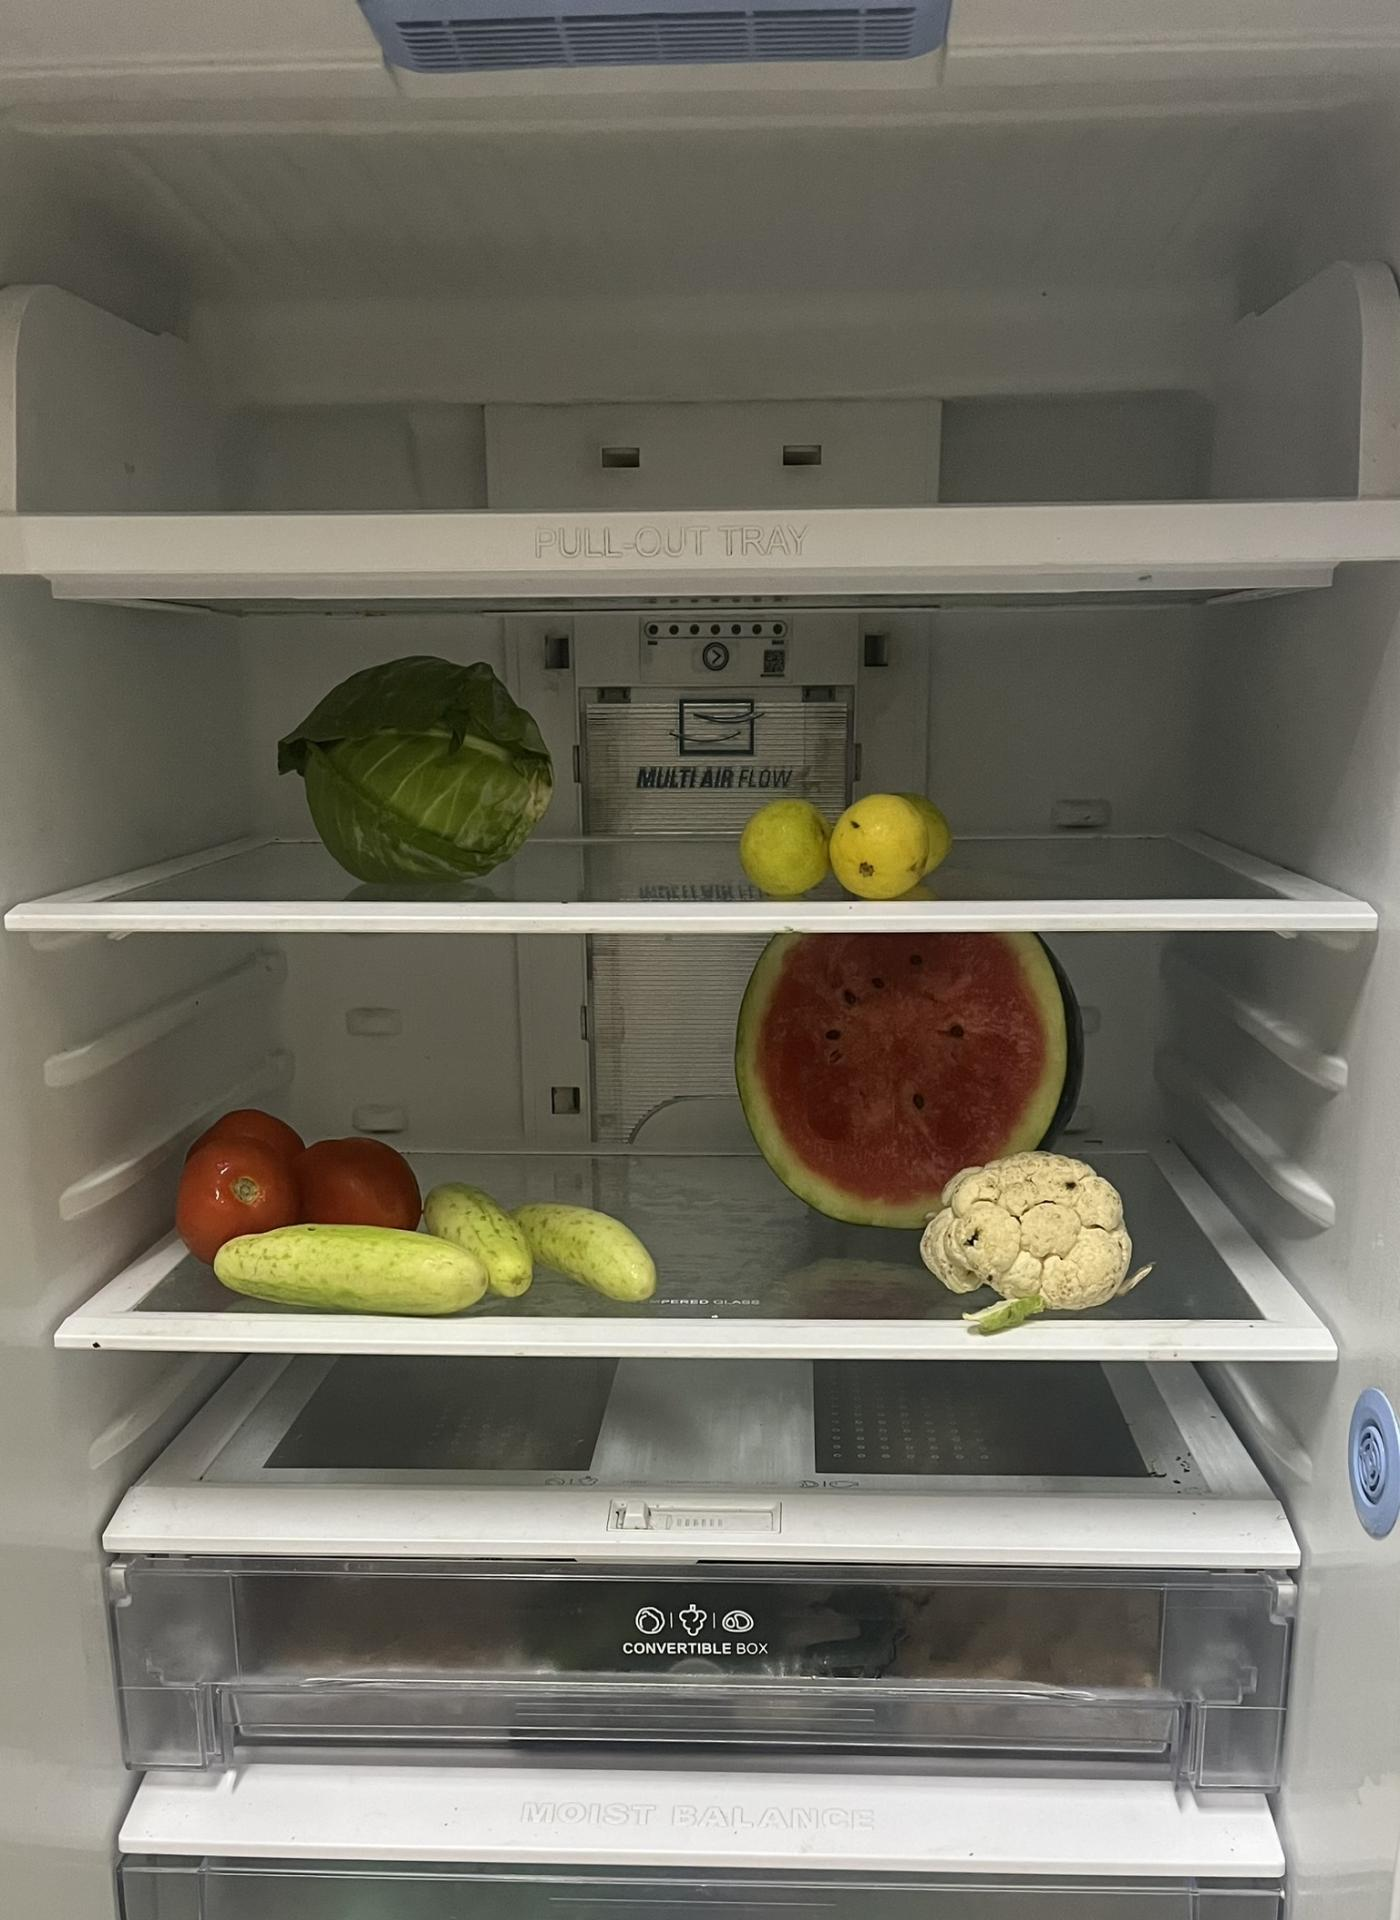cabbage: (300, 660, 549, 888)
cauliflower: (923, 1158, 1121, 1315)
cucumber: (420, 1185, 662, 1312), (213, 1224, 480, 1309)
lemon: (742, 796, 951, 896)
tomato: (176, 1106, 426, 1237)
watermelon: (740, 930, 1076, 1234)
